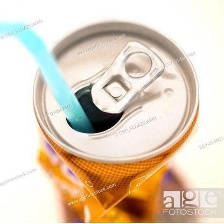can: (26, 14, 199, 224)
drinking_straw: (0, 19, 98, 134)
